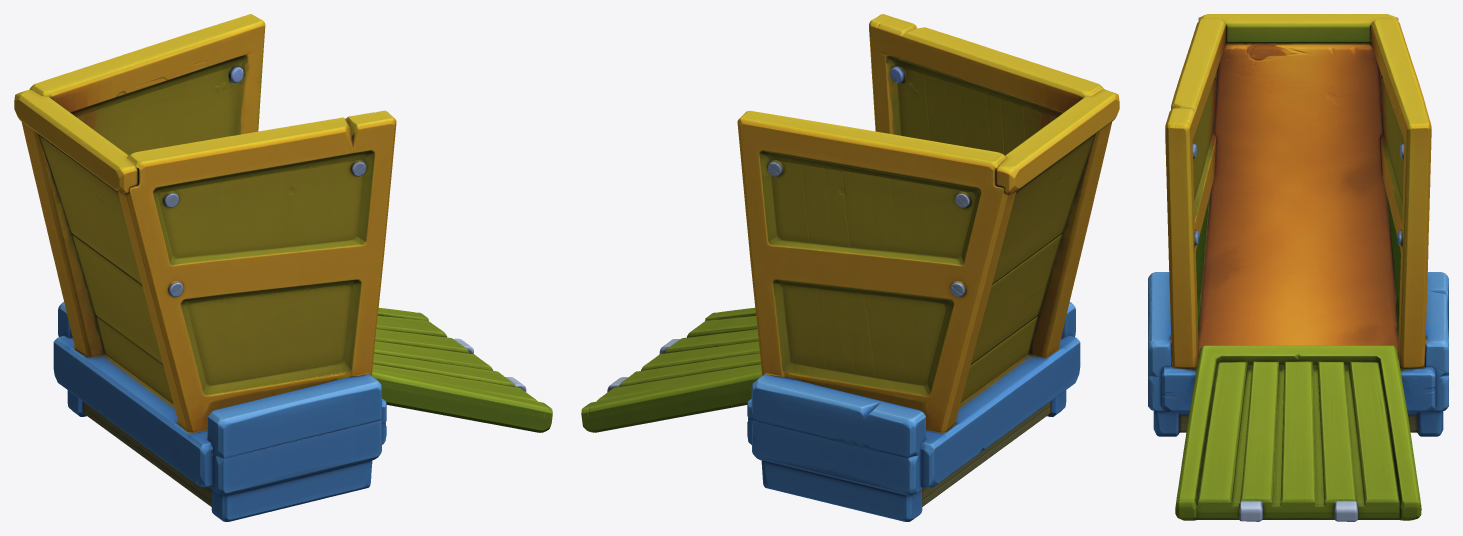
Rendered from ramp.glb.
3 renders of one model, left to right at view 1: azimuth 30°, elevation 25°; view 2: azimuth 150°, elevation 25°; view 3: azimuth 270°, elevation 25°, orthographic. The views are drawn at different scales.
Parts seen in each view (by area): view 1: tripo_node_e78aba4c-2ec5-4943-91d8-db3bc4116004; view 2: tripo_node_e78aba4c-2ec5-4943-91d8-db3bc4116004; view 3: tripo_node_e78aba4c-2ec5-4943-91d8-db3bc4116004.
Boxes of the visible parts, x1,y1,x2,y2 form: tripo_node_e78aba4c-2ec5-4943-91d8-db3bc4116004: (14,14,552,521); tripo_node_e78aba4c-2ec5-4943-91d8-db3bc4116004: (581,14,1119,521); tripo_node_e78aba4c-2ec5-4943-91d8-db3bc4116004: (1148,14,1448,521).
Size of the model in its own units: 0.9805 by 0.7834 by 0.6539.
Materials: 1 (1 with a texture image).
